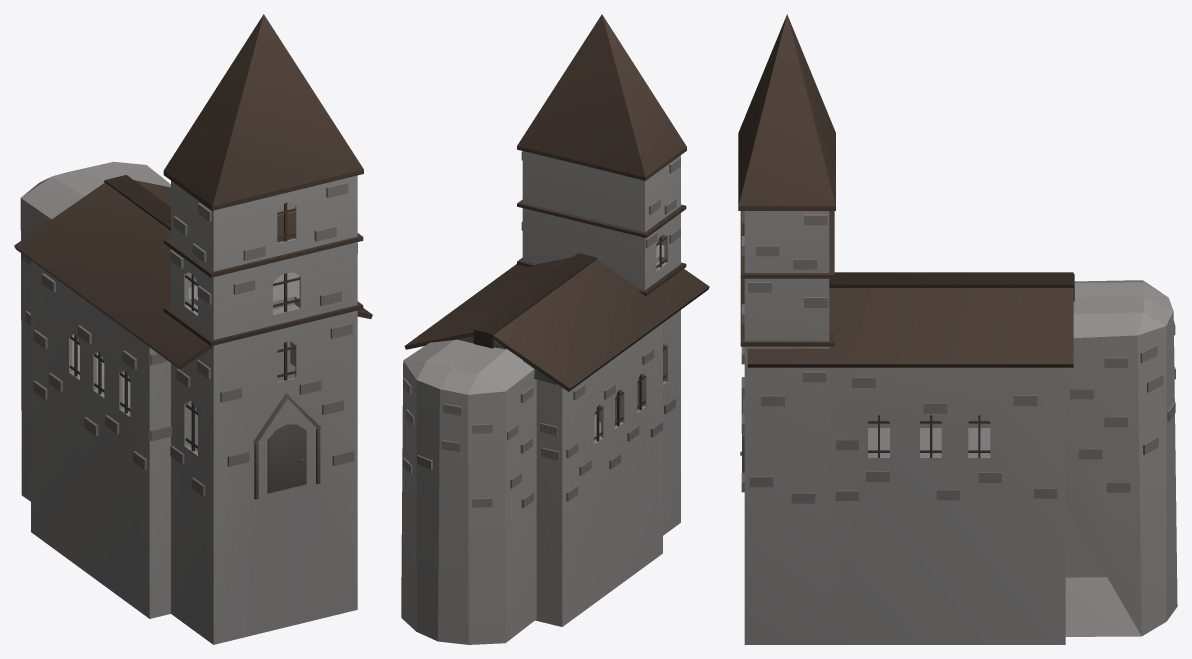
The model's file is Church2 (1).fbx.
3 renders of one model, left to right at view 1: azimuth 30°, elevation 25°; view 2: azimuth 150°, elevation 25°; view 3: azimuth 270°, elevation 25°, orthographic. The views are drawn at different scales.
Visible parts, largest first — view 1: Church, Door; view 2: Church; view 3: Church.
Part boxes in pixels (x1,y1,x2,y2): Church: (14, 14, 372, 644); Door: (267, 424, 306, 493); Church: (401, 14, 709, 644); Church: (738, 14, 1177, 644).
Size of the model in its own units: 1396 by 4081 by 2726.
